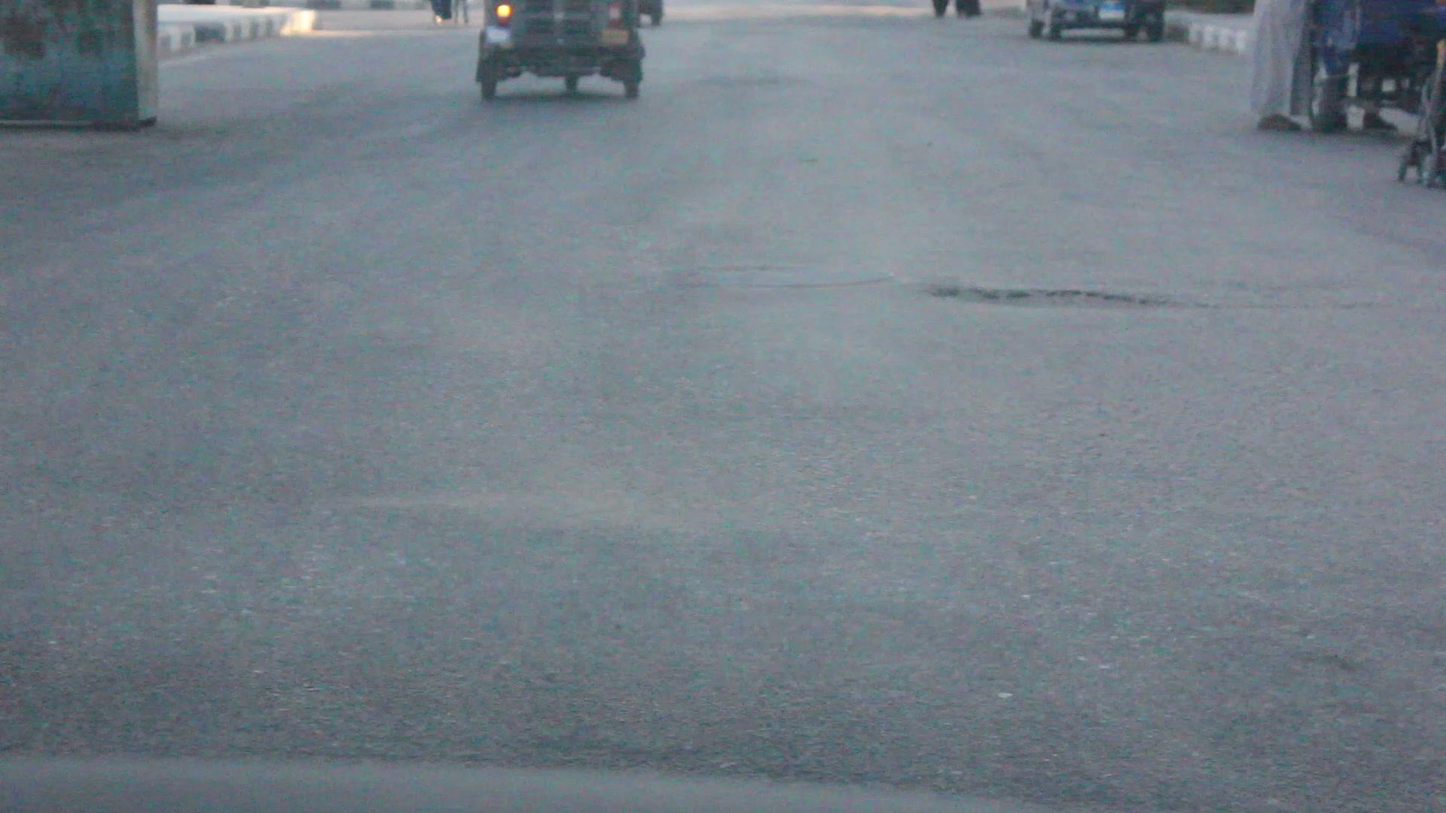Bump: (4, 461, 1446, 813)
Pothole: (894, 265, 1186, 339)
